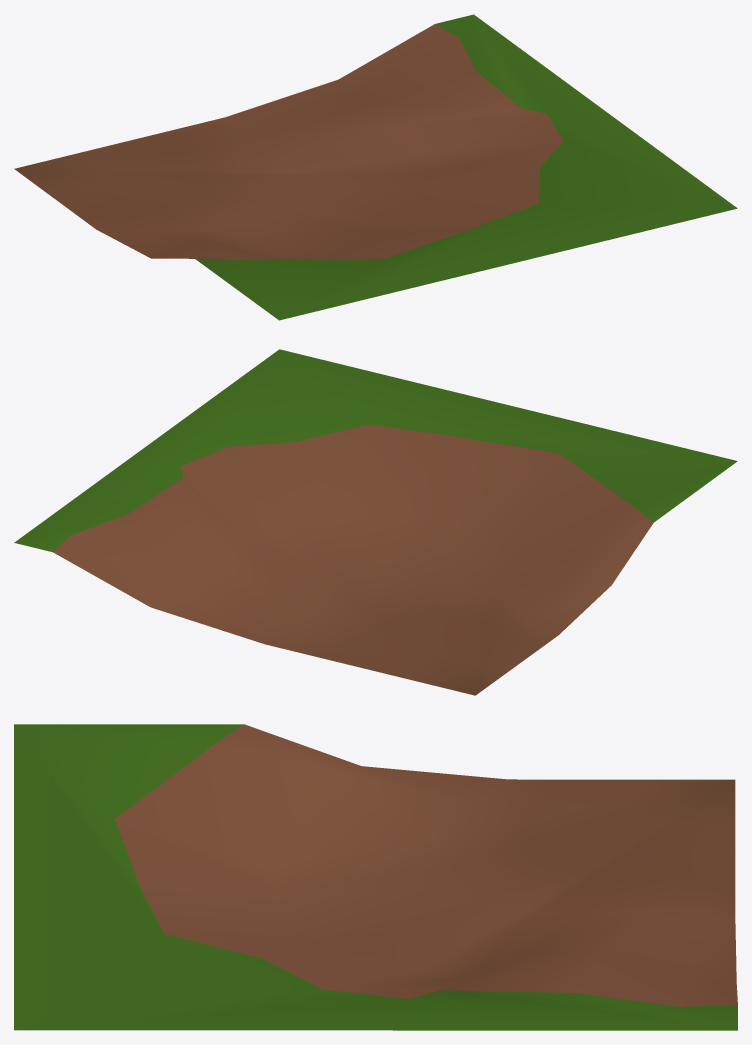
Rendered from GroundHole1_1.fbx.
3 views of the same model, one above another, from view 1: azimuth 30°, elevation 25°; view 2: azimuth 150°, elevation 25°; view 3: azimuth 270°, elevation 25° (orthographic). The views are drawn at different scales.
Visible parts, largest first — view 1: GroundHole1_1; view 2: GroundHole1_1; view 3: GroundHole1_1.
Part boxes in pixels (left/top/right/bottom): GroundHole1_1: left=14, top=14, right=737, bottom=320; GroundHole1_1: left=14, top=349, right=737, bottom=695; GroundHole1_1: left=14, top=724, right=737, bottom=1030.
Bounding box in the file's own units: 402 × 38.13 × 400.
